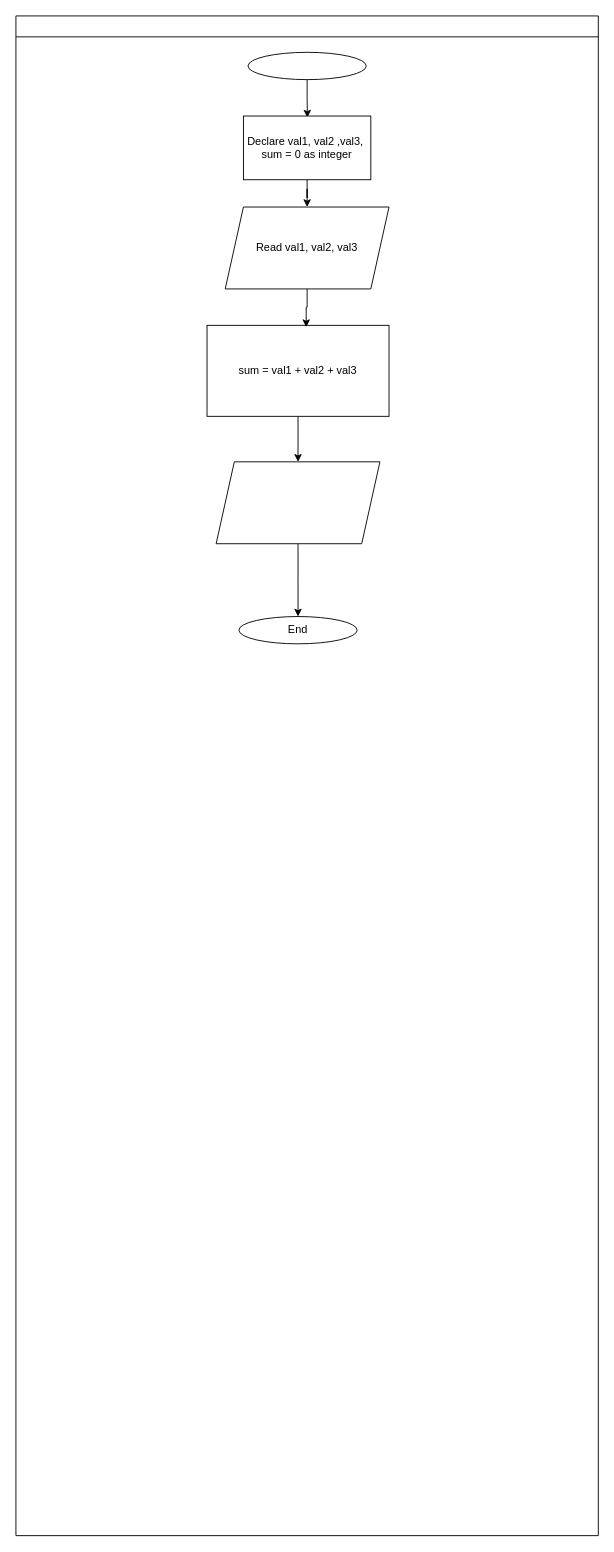
Some shapes in this 614 by 1552 pixel diagram are drawn without their labels. Here are the shapes that lost their labels. From the top down, the centre of each, then its label:
At point 306,65: "Start".
At point 297,502: "Display sum".
